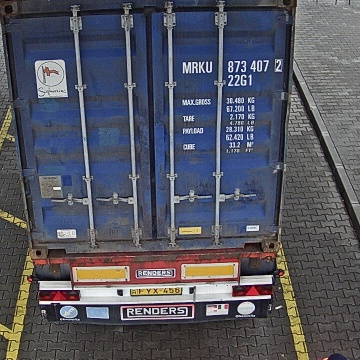serial_id: (181, 59, 281, 74)
